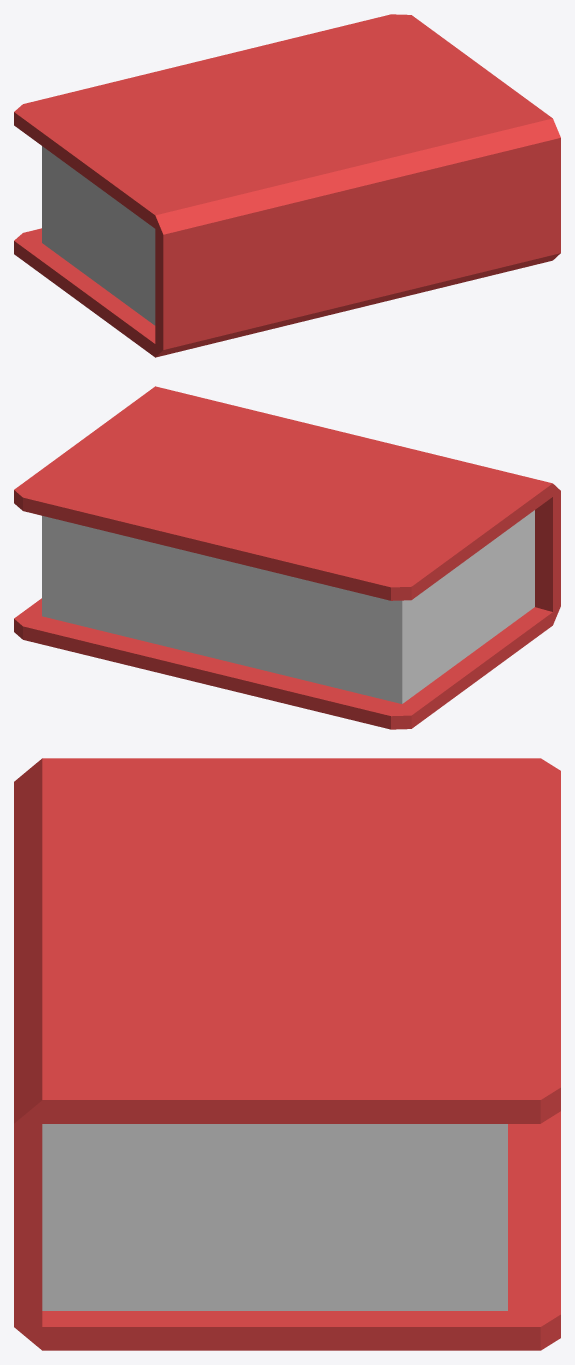
Rendered from Book.fbx.
3 views of the same model, one above another, from view 1: azimuth 30°, elevation 25°; view 2: azimuth 150°, elevation 25°; view 3: azimuth 270°, elevation 25° (orthographic). The views are drawn at different scales.
Parts seen in each view (by area): view 1: Cube; view 2: Cube; view 3: Cube.
Part boxes in pixels (<box>): Cube: <box>14,14,560,357</box>; Cube: <box>14,386,560,729</box>; Cube: <box>14,758,560,1350</box>.
Bounding box in the file's own units: 296 × 101 × 200.
